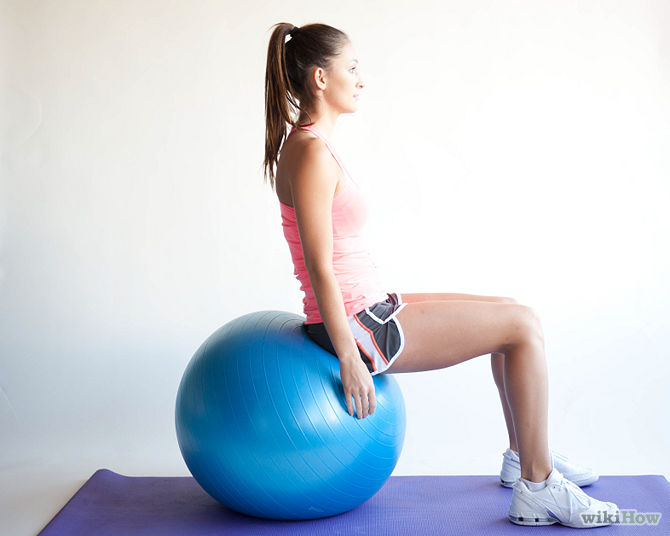yogaball: (172, 308, 411, 526)
